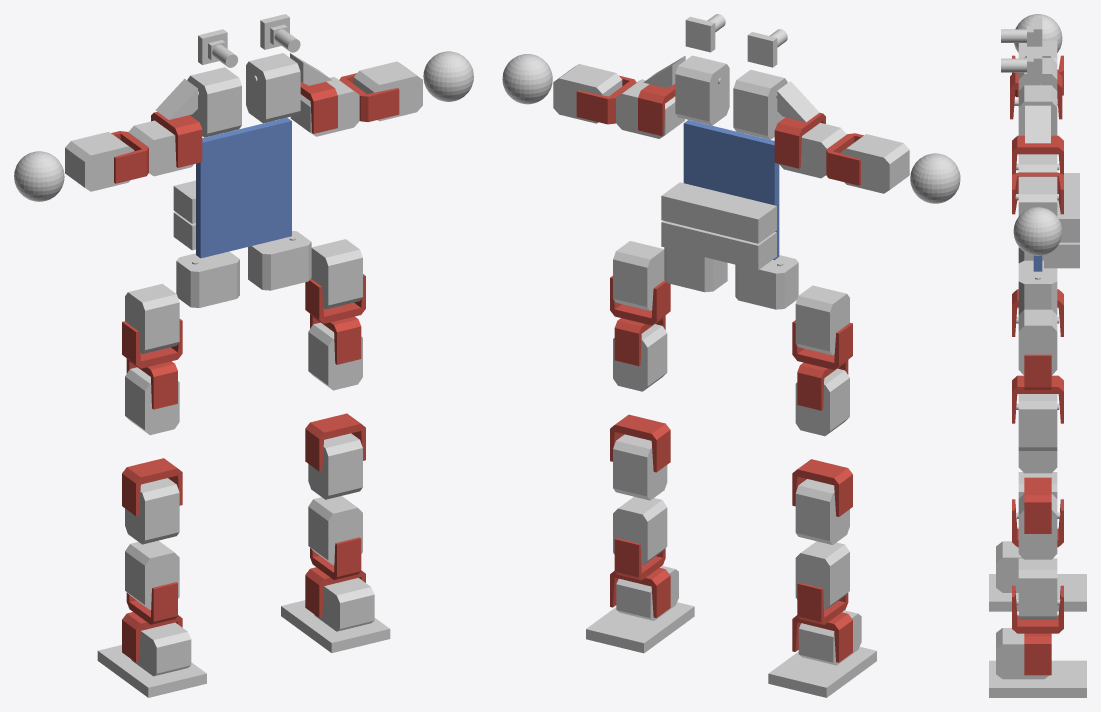
Rendered from full_robot_mx28(v2).dae.
The picture shows the model from 3 angles, left to right: view 1: azimuth 30°, elevation 25°; view 2: azimuth 150°, elevation 25°; view 3: azimuth 270°, elevation 25°; orthographic projection. The views are drawn at different scales.
Visible parts, largest first — view 1: Central, left_arm0, right_leg0, right_leg1, left_leg0, left_leg1, right_arm0, right_leg3, left_leg3, right_arm2, right_leg4, left_leg4 (+29 smaller); view 2: Central, battery2, left_arm0, battery1, right_leg1, right_foot, left_foot, left_leg1, right_arm0, right_leg3, right_leg0, left_leg3 (+30 smaller); view 3: left_foot, left_leg4, Servo_004, left_leg1, left_arm_hand, left_leg0, right_foot, Cube_007, left_leg5, left_leg3, left_arm2, battery2 (+24 smaller).
Part boxes in pixels (bbox=[...]): Central: bbox=[196, 117, 291, 258]; left_arm0: bbox=[246, 53, 300, 123]; right_leg0: bbox=[176, 251, 239, 307]; right_leg1: bbox=[125, 283, 179, 354]; left_leg0: bbox=[248, 231, 311, 290]; left_leg1: bbox=[311, 239, 362, 309]; right_arm0: bbox=[187, 67, 241, 137]; right_leg3: bbox=[125, 478, 179, 544]; left_leg3: bbox=[308, 433, 362, 499]; right_arm2: bbox=[65, 132, 134, 191]; right_leg4: bbox=[125, 540, 179, 609]; left_leg4: bbox=[308, 496, 362, 565]; Central: bbox=[683, 120, 779, 259]; battery2: bbox=[661, 182, 776, 243]; left_arm0: bbox=[675, 55, 729, 125]; battery1: bbox=[661, 220, 776, 270]; right_leg1: bbox=[795, 285, 849, 355]; right_foot: bbox=[768, 647, 876, 697]; left_foot: bbox=[586, 602, 694, 653]; left_leg1: bbox=[613, 241, 664, 310]; right_arm0: bbox=[733, 69, 787, 139]; right_leg3: bbox=[795, 479, 849, 544]; right_leg0: bbox=[735, 255, 798, 309]; left_leg3: bbox=[613, 434, 667, 500]; left_foot: bbox=[989, 660, 1086, 697]; left_leg4: bbox=[1018, 558, 1057, 619]; Servo_004: bbox=[1018, 394, 1057, 450]; left_leg1: bbox=[1018, 309, 1057, 375]; left_arm_hand: bbox=[1013, 207, 1062, 255]; left_leg0: bbox=[1018, 260, 1057, 314]; right_foot: bbox=[989, 574, 1086, 611]; Cube_007: bbox=[1024, 477, 1051, 533]; left_leg5: bbox=[996, 628, 1048, 679]; left_leg3: bbox=[1018, 494, 1057, 559]; left_arm2: bbox=[1018, 176, 1057, 215]; battery2: bbox=[1057, 173, 1079, 242].
Bounding box in the file's own units: 4.65 × 0.9 × 6.11.
